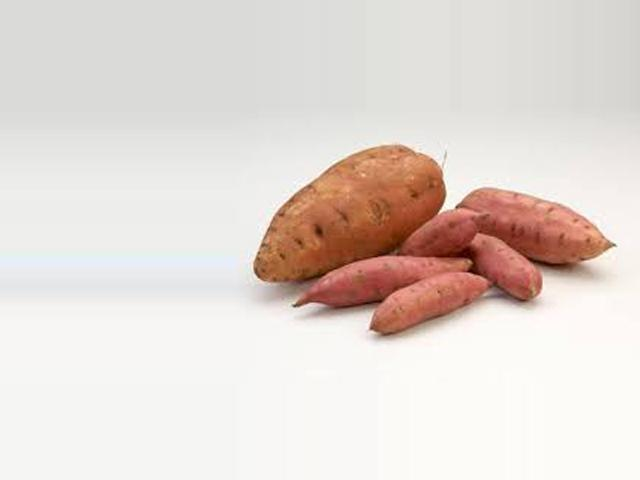sweet_potato: (460, 187, 619, 264)
